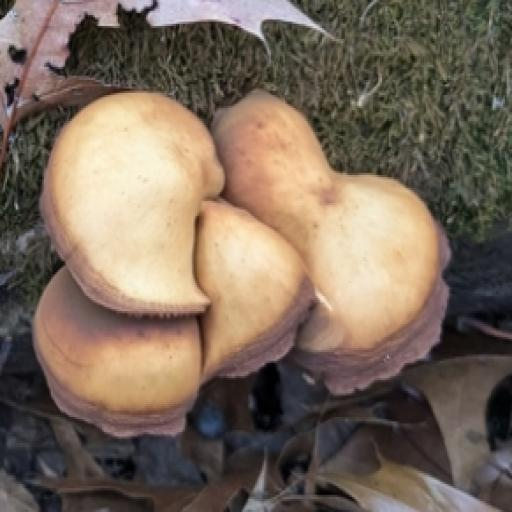mushroom: (19, 86, 458, 445)
